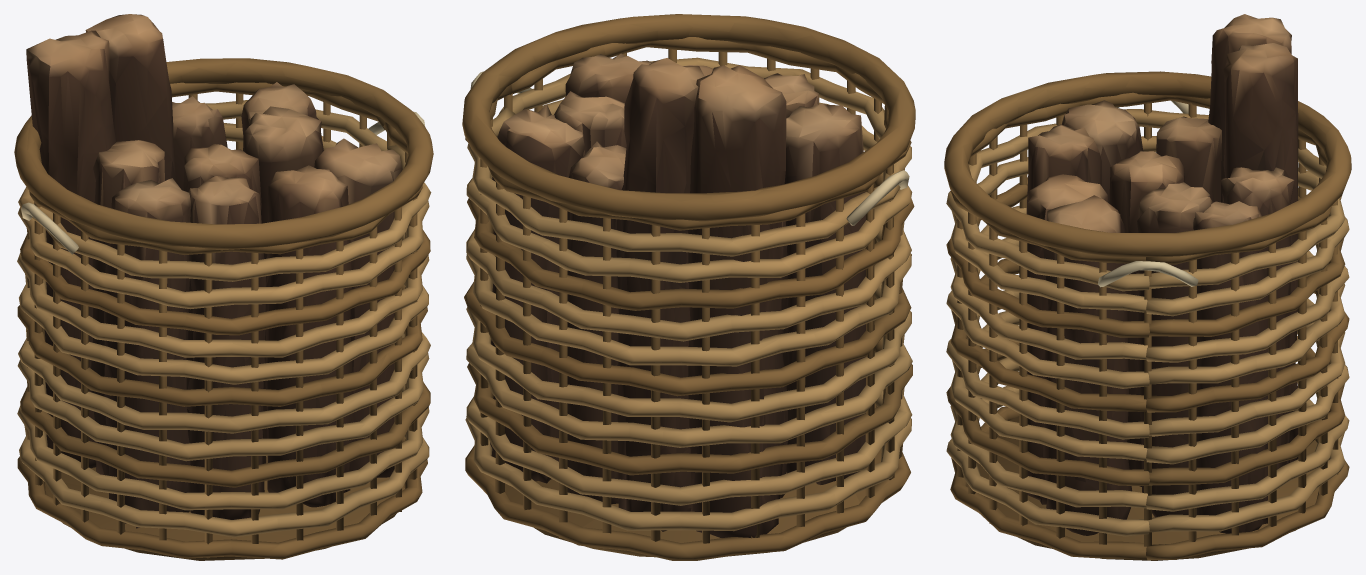
The model's file is ember_log_basket_lod1.glb.
3 views of the same model, side by side, from view 1: azimuth 30°, elevation 25°; view 2: azimuth 150°, elevation 25°; view 3: azimuth 270°, elevation 25° (orthographic). The views are drawn at different scales.
Parts seen in each view (by area): view 1: ember_log_basket.001; view 2: ember_log_basket.001; view 3: ember_log_basket.001.
Part boxes in pixels (left/top/right/bottom): ember_log_basket.001: left=14, top=14, right=433, bottom=560; ember_log_basket.001: left=462, top=14, right=915, bottom=560; ember_log_basket.001: left=944, top=14, right=1351, bottom=560.
Bounding box in the file's own units: 32.51 × 33.82 × 30.19.
